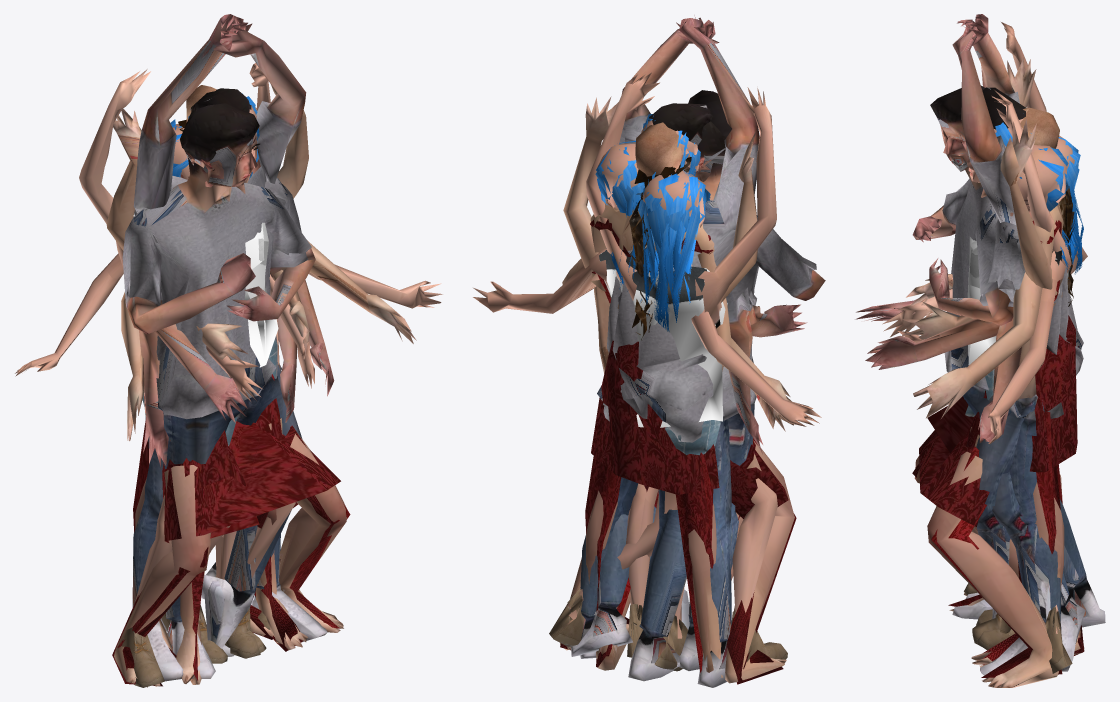
File: festival-people-far.glb
3 renders of one model, left to right at view 1: azimuth 30°, elevation 25°; view 2: azimuth 150°, elevation 25°; view 3: azimuth 270°, elevation 25°, orthographic. The views are drawn at different scales.
Visible parts, largest first — view 1: manuel-groove, red-hands-up, manuel-hands-up, manuel-work, red-groove, kandace-hands-up, kandace-groove, manuel-stand, red-work, kandace-work, kandace-stand; view 2: kandace-hands-up, manuel-hands-up, red-work, red-hands-up, manuel-groove, kandace-groove, red-stand, manuel-work, manuel-stand, kandace-work, red-groove, kandace-stand; view 3: red-hands-up, manuel-hands-up, manuel-groove, red-work, manuel-work, red-groove, manuel-stand, kandace-groove, kandace-hands-up, kandace-work, red-stand.
Part boxes in pixels (<box>): manuel-groove: <box>122,103,315,678</box>; red-hands-up: <box>106,85,350,687</box>; manuel-hands-up: <box>133,14,306,656</box>; manuel-work: <box>132,137,334,681</box>; red-groove: <box>121,171,416,684</box>; kandace-hands-up: <box>79,63,270,687</box>; kandace-groove: <box>15,107,442,658</box>; manuel-stand: <box>133,110,327,677</box>; red-work: <box>133,85,309,657</box>; kandace-work: <box>188,93,314,663</box>; kandace-stand: <box>188,105,279,547</box>; kandace-hands-up: <box>549,72,787,661</box>; manuel-hands-up: <box>597,15,759,681</box>; red-work: <box>585,122,723,677</box>; red-hands-up: <box>560,96,796,684</box>; manuel-groove: <box>571,90,825,670</box>; kandace-groove: <box>473,140,821,671</box>; red-stand: <box>590,138,723,677</box>; manuel-work: <box>580,125,807,687</box>; manuel-stand: <box>581,121,762,634</box>; kandace-work: <box>626,114,760,657</box>; red-groove: <box>562,258,793,670</box>; kandace-stand: <box>627,115,697,603</box>; red-hands-up: <box>912,56,1073,687</box>; manuel-hands-up: <box>952,14,1105,627</box>; manuel-groove: <box>912,85,1085,671</box>; red-work: <box>902,107,1075,666</box>; manuel-work: <box>855,219,1075,675</box>; red-groove: <box>913,189,1084,655</box>; manuel-stand: <box>966,222,1063,672</box>; kandace-groove: <box>971,145,1087,645</box>; kandace-hands-up: <box>964,22,1083,673</box>; kandace-work: <box>882,120,1031,650</box>; red-stand: <box>971,136,1077,660</box>.
Size of the model in its own units: 0.7346 by 1.16 by 0.4247.
11 materials, 10 textured.
